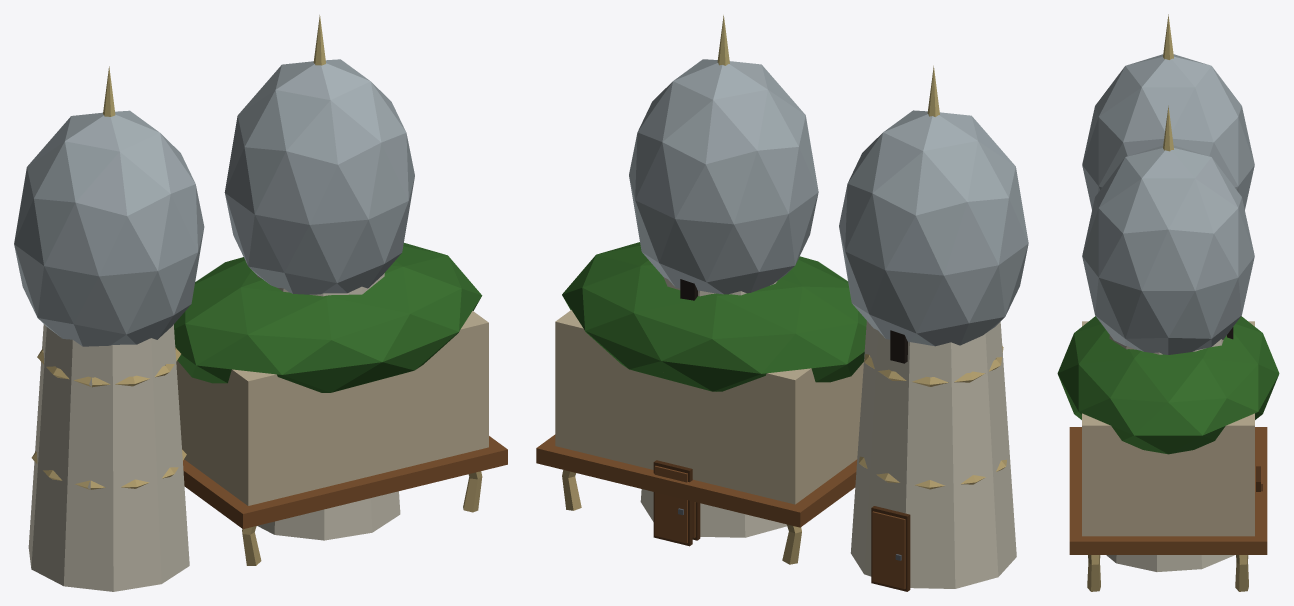
File: elf_row_broken.glb
3 renders of one model, left to right at view 1: azimuth 30°, elevation 25°; view 2: azimuth 150°, elevation 25°; view 3: azimuth 270°, elevation 25°, orthographic. The views are drawn at different scales.
Visible parts, largest first — view 1: elf_row_piece2, elf_row_piece10, elf_row_piece6, elf_row_piece9, elf_row_piece1, elf_row_piece8, elf_row_piece7, elf_row_piece0, elf_row_piece5; view 2: elf_row_piece1, elf_row_piece6, elf_row_piece3, elf_row_piece4, elf_row_piece5, elf_row_piece10, elf_row_piece9, elf_row_piece7, elf_row_piece2, elf_row_piece8; view 3: elf_row_piece5, elf_row_piece7, elf_row_piece3, elf_row_piece8, elf_row_piece6, elf_row_piece2, elf_row_piece4, elf_row_piece1, elf_row_piece0.
Part boxes in pixels (left/top/right/bottom): elf_row_piece2: left=235, top=69, right=464, bottom=565; elf_row_piece10: left=65, top=70, right=316, bottom=591; elf_row_piece6: left=14, top=66, right=289, bottom=353; elf_row_piece9: left=37, top=253, right=175, bottom=581; elf_row_piece1: left=28, top=324, right=400, bottom=586; elf_row_piece8: left=174, top=260, right=507, bottom=512; elf_row_piece7: left=277, top=15, right=488, bottom=395; elf_row_piece0: left=94, top=223, right=200, bottom=494; elf_row_piece5: left=189, top=207, right=470, bottom=306; elf_row_piece1: left=737, top=285, right=1016, bottom=591; elf_row_piece6: left=715, top=65, right=1028, bottom=388; elf_row_piece3: left=555, top=109, right=912, bottom=408; elf_row_piece4: left=536, top=288, right=898, bottom=546; elf_row_piece5: left=555, top=221, right=869, bottom=421; elf_row_piece10: left=730, top=72, right=866, bottom=404; elf_row_piece9: left=861, top=262, right=1024, bottom=549; elf_row_piece7: left=644, top=15, right=740, bottom=135; elf_row_piece2: left=732, top=61, right=842, bottom=285; elf_row_piece8: left=619, top=242, right=866, bottom=340; elf_row_piece5: left=1145, top=274, right=1254, bottom=554; elf_row_piece7: left=1082, top=105, right=1225, bottom=470; elf_row_piece3: left=1174, top=151, right=1279, bottom=502; elf_row_piece8: left=1069, top=340, right=1181, bottom=591; elf_row_piece6: left=1086, top=14, right=1251, bottom=183; elf_row_piece2: left=1057, top=147, right=1162, bottom=507; elf_row_piece4: left=1166, top=206, right=1267, bottom=591; elf_row_piece1: left=1106, top=555, right=1169, bottom=571; elf_row_piece0: left=1086, top=163, right=1113, bottom=209.
Bounding box in the file's own units: 2.34 × 2.54 × 1.17.
